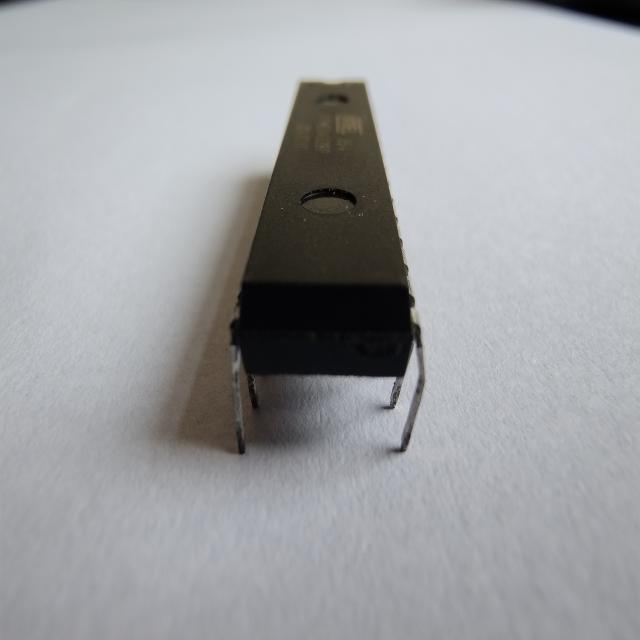atmega: (226, 76, 428, 458)
